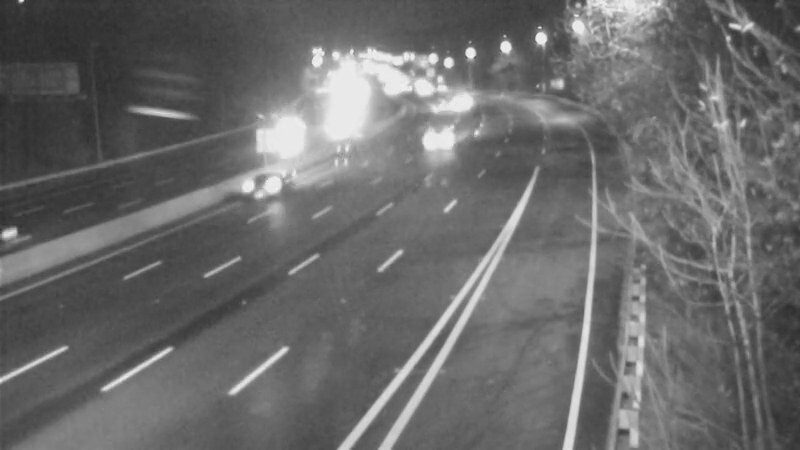vehicle: (222, 144, 302, 224), (1, 189, 68, 269), (390, 67, 440, 117), (428, 71, 478, 121), (412, 81, 462, 131), (419, 106, 469, 156), (269, 107, 319, 157)
